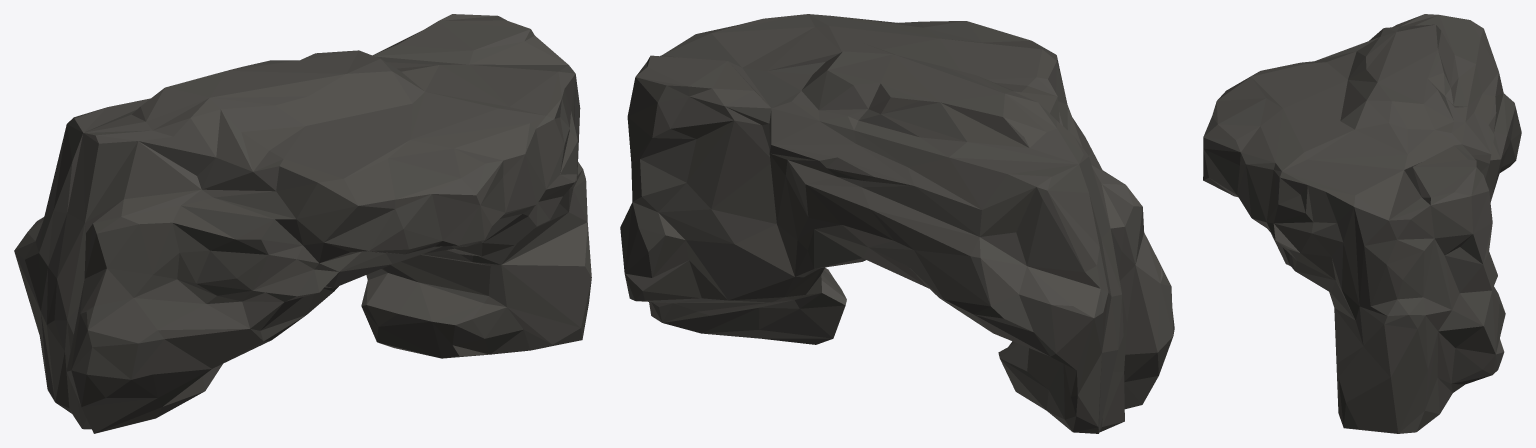
The model's file is samurai_SM_Env_Rock_Cliff_Arch_01.gltf.
3 renders of one model, left to right at view 1: azimuth 30°, elevation 25°; view 2: azimuth 150°, elevation 25°; view 3: azimuth 270°, elevation 25°, orthographic. The views are drawn at different scales.
Parts seen in each view (by area): view 1: SM_Env_Rock_Cliff_Arch_01; view 2: SM_Env_Rock_Cliff_Arch_01; view 3: SM_Env_Rock_Cliff_Arch_01.
Part boxes in pixels (box(x1,y1,x2,y2)): SM_Env_Rock_Cliff_Arch_01: box(14, 14, 591, 433); SM_Env_Rock_Cliff_Arch_01: box(620, 14, 1174, 433); SM_Env_Rock_Cliff_Arch_01: box(1203, 14, 1521, 433).
Bounding box in the file's own units: 16.29 × 9.12 × 10.16.
Materials: 1 (1 with a texture image).
